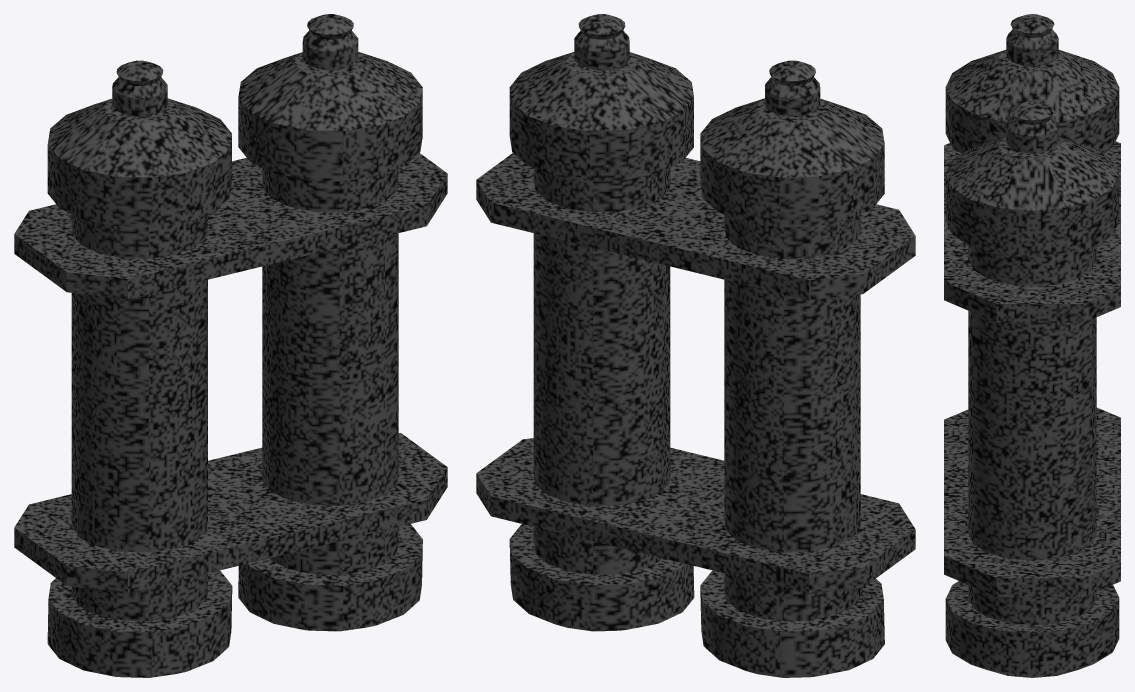
File: Fuel Cell.fbx
3 views of the same model, side by side, from view 1: azimuth 30°, elevation 25°; view 2: azimuth 150°, elevation 25°; view 3: azimuth 270°, elevation 25° (orthographic). The views are drawn at different scales.
Parts seen in each view (by area): view 1: Fuel_Cell; view 2: Fuel_Cell; view 3: Fuel_Cell.
Boxes of the visible parts, x1,y1,x2,y2 form: Fuel_Cell: (14, 14, 447, 677); Fuel_Cell: (476, 14, 915, 677); Fuel_Cell: (944, 14, 1120, 677).
Bounding box in the file's own units: 0.8118 × 1.17 × 0.3444.
